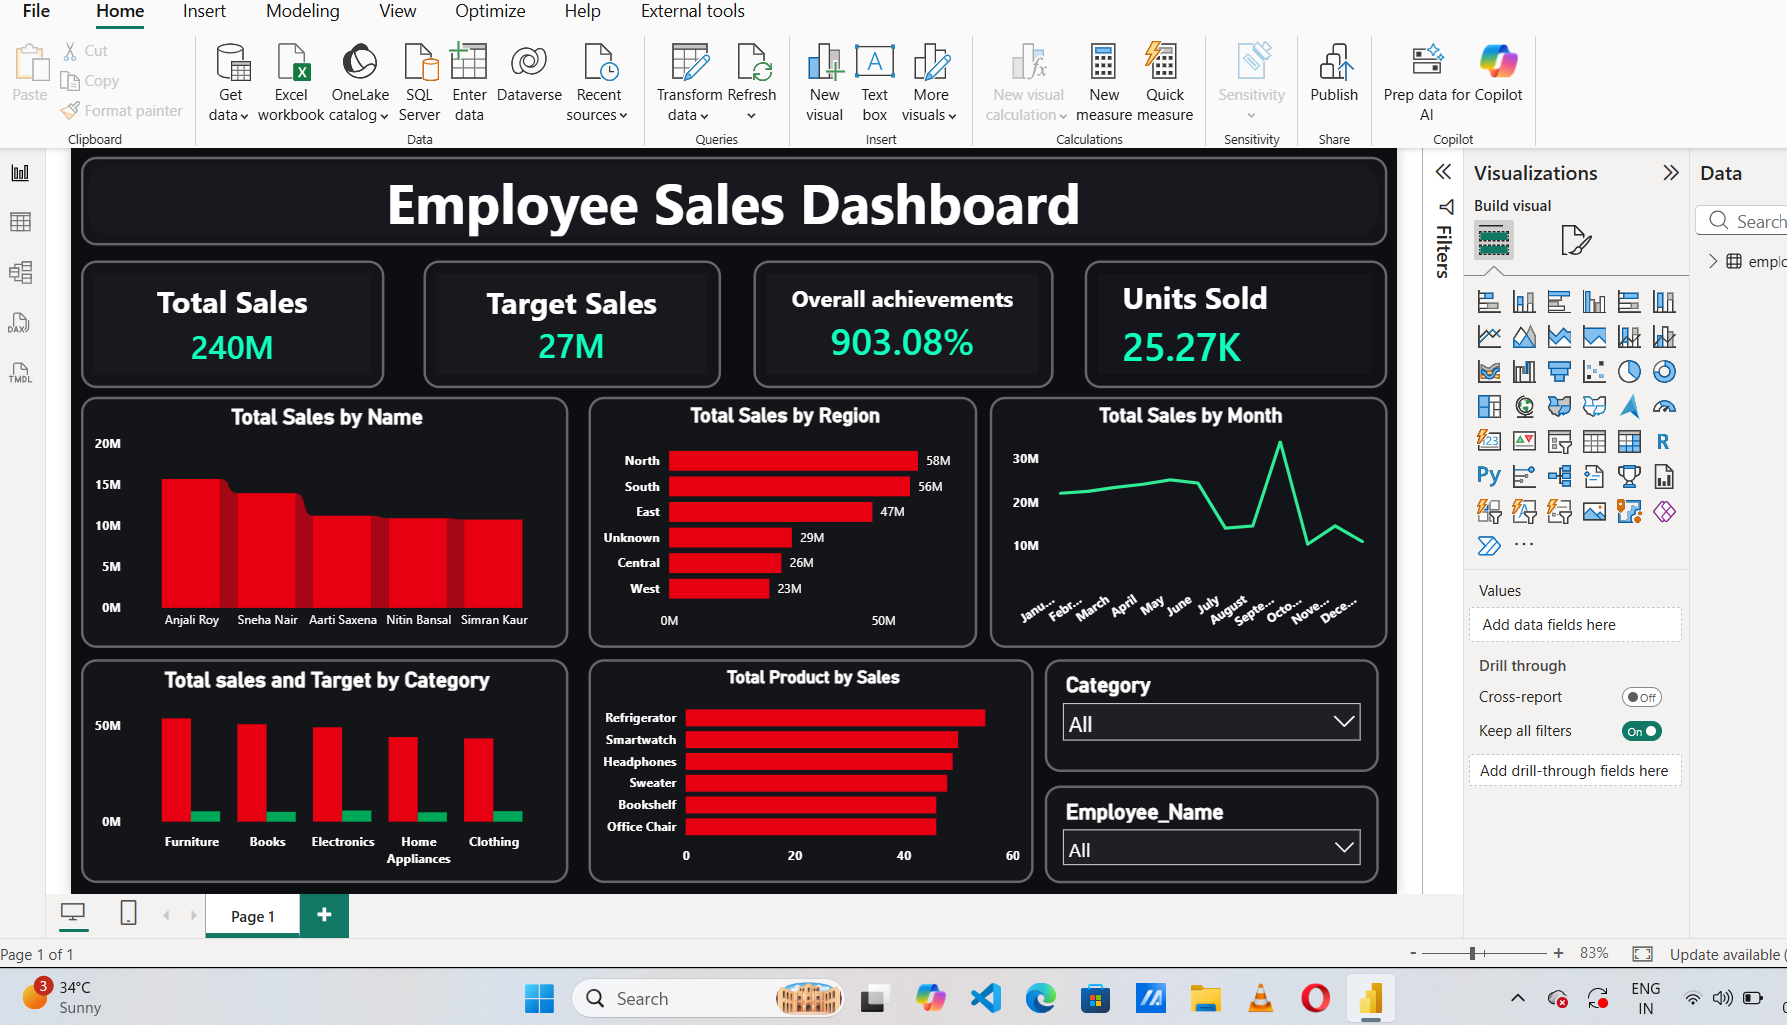

What the dashboard file says about the page in this screenshot:
{"tool":"powerbi","page":{"name":"Page 1","canvas":[1280,720],"ordinal":0},"visuals":[{"type":"cardVisual","fields":{"Data":["Sum(employee sales data.Total_Sales_Raw)"]},"box":[9.7,108.6,293.2,123.1],"z":0},{"type":"cardVisual","fields":{"Data":["Sum(employee sales data.Target_Sales)"]},"box":[340.2,108.6,287.1,123.1],"z":1000},{"type":"cardVisual","fields":{"Data":["Sum(employee sales data.Units_Sold)"]},"box":[978.4,108.6,292,123.1],"z":2000},{"type":"cardVisual","fields":{"Data":["employee sales data.Overall achievements"]},"box":[658.7,108.6,289.5,123.1],"z":3000},{"type":"shape","title":"Employee  Sales Dashboard ","box":[9.7,8.4,1260.7,85.7],"z":4000},{"type":"clusteredColumnChart","title":"Total sales and Target by Category","fields":{"Category":["employee sales data.Category"],"Y":["Sum(employee sales data.Total_Sales_Raw)","Sum(employee sales data.Target_Sales)"]},"box":[9.7,493.4,470.5,216],"z":5000},{"type":"barChart","title":" Total Sales by Region","fields":{"Y":["Sum(employee sales data.Total_Sales_Raw)"],"Category":["employee sales data.Region"]},"box":[499.5,240.1,375.2,242.5],"z":6000},{"type":"lineChart","title":"Total Sales by Month","fields":{"Y":["Sum(employee sales data.Total_Sales_Raw)"],"Category":["employee sales data.Date.Variation.Date Hierarchy.Month"]},"box":[886.7,240.1,383.6,242.5],"z":7000},{"type":"columnChart","title":"Total Sales by Name","fields":{"Category":["employee sales data.Employee_Name"],"Y":["Sum(employee sales data.Total_Sales_Raw)"]},"box":[9.7,240.1,470.5,242],"z":8000},{"type":"slicer","fields":{"Values":["employee sales data.Employee_Name"]},"box":[939.8,615.3,322.1,94.1],"z":9000},{"type":"clusteredBarChart","title":"Total Product  by Sales","fields":{"Category":["employee sales data.Product"],"Y":["CountNonNull(employee sales data.Total_Sales_Raw)"]},"box":[499.5,493.4,429.5,216],"z":10000},{"type":"slicer","fields":{"Values":["employee sales data.Category"]},"box":[939.8,493.4,322.1,108.6],"z":11000}]}

Visuals, with their boxes on the page's 1280x720 design canvas (x1, y1, x2, y2). These are canvas units, not pixel positions in the 1787x1025 screenshot, which may show the page scaled, cropped or inside an application window:
cardVisual - Sum(employee sales data.Total_Sales_Raw): 10:109:303:232
cardVisual - Sum(employee sales data.Target_Sales): 340:109:627:232
cardVisual - Sum(employee sales data.Units_Sold): 978:109:1270:232
cardVisual - employee sales data.Overall achievements: 659:109:948:232
"Employee  Sales Dashboard " shape: 10:8:1270:94
"Total sales and Target by Category" clusteredColumnChart: 10:493:480:709
" Total Sales by Region" barChart: 500:240:875:483
"Total Sales by Month" lineChart: 887:240:1270:483
"Total Sales by Name" columnChart: 10:240:480:482
slicer - employee sales data.Employee_Name: 940:615:1262:709
"Total Product  by Sales" clusteredBarChart: 500:493:929:709
slicer - employee sales data.Category: 940:493:1262:602
